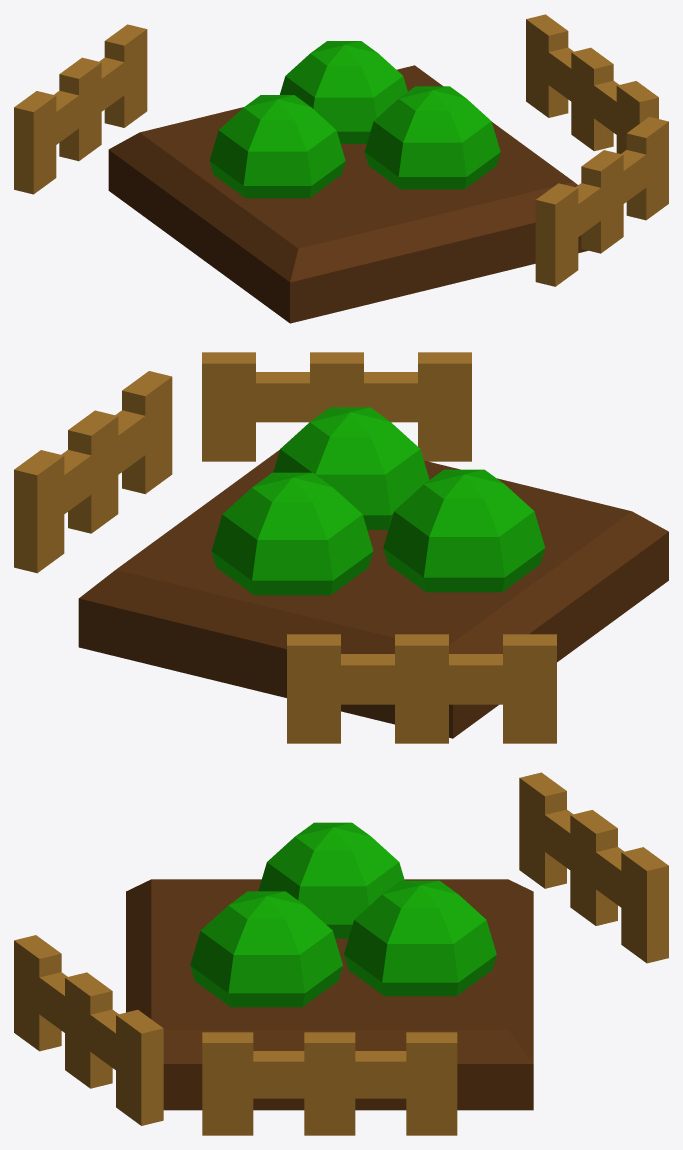
Rendered from tile_food_farm.fbx.
3 views of the same model, one above another, from view 1: azimuth 30°, elevation 25°; view 2: azimuth 150°, elevation 25°; view 3: azimuth 270°, elevation 25° (orthographic). The views are drawn at different scales.
Parts seen in each view (by area): view 1: Ogorod, Fence.002, Fence.003, Melon.001, Melon, Fence, Melon.002; view 2: Ogorod, Fence.003, Fence.002, Fence, Melon.001, Melon.002, Melon; view 3: Ogorod, Fence, Fence.003, Fence.002, Melon, Melon.002, Melon.001.
Part boxes in pixels (box(x1,y1,x2,y2)): Ogorod: box(108, 65, 587, 323); Fence.002: box(535, 117, 668, 286); Fence.003: box(14, 24, 147, 194); Melon.001: box(209, 95, 345, 198); Melon: box(364, 86, 500, 189); Fence: box(526, 14, 658, 153); Melon.002: box(280, 41, 407, 143); Ogorod: box(78, 450, 668, 738); Fence.003: box(287, 634, 556, 743); Fence.002: box(202, 352, 471, 461); Fence: box(14, 371, 172, 573); Melon.001: box(383, 469, 545, 592); Melon.002: box(211, 472, 373, 595); Melon: box(273, 407, 429, 529); Ogorod: box(126, 879, 533, 1110); Fence: box(202, 1032, 457, 1135); Fence.003: box(519, 772, 668, 963); Fence.002: box(14, 935, 163, 1125); Melon: box(190, 891, 342, 1007); Melon.002: box(344, 880, 496, 996); Melon.001: box(258, 822, 404, 938).
Size of the model in its own units: 2.51 by 0.6673 by 2.57.
